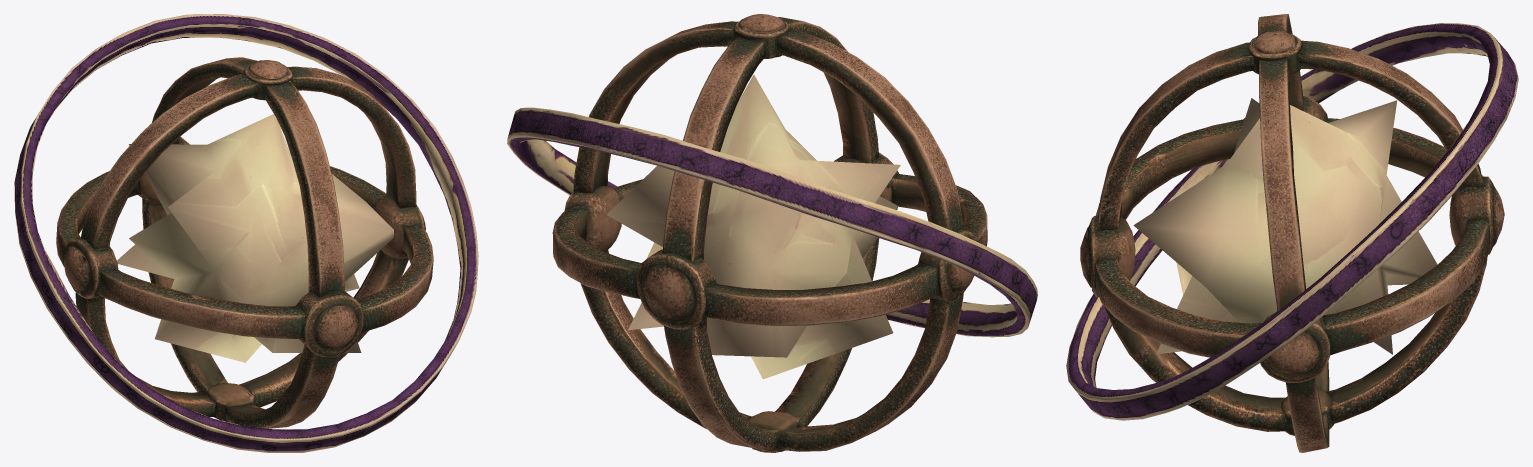
File: tripo_convert_97dec2b6-71d7-4455-a715-9d9d4c73e5cf.fbx
The picture shows the model from 3 angles, left to right: view 1: azimuth 30°, elevation 25°; view 2: azimuth 150°, elevation 25°; view 3: azimuth 270°, elevation 25°; orthographic projection. The views are drawn at different scales.
Parts seen in each view (by area): view 1: tripo_node_97dec2b6; view 2: tripo_node_97dec2b6; view 3: tripo_node_97dec2b6.
Boxes of the visible parts, bbox=[...] form: tripo_node_97dec2b6: bbox=[14, 14, 478, 452]; tripo_node_97dec2b6: bbox=[507, 14, 1037, 452]; tripo_node_97dec2b6: bbox=[1066, 14, 1518, 452].
Bounding box in the file's own units: 0.998 × 0.8301 × 0.8301.
1 material, 1 textured.
